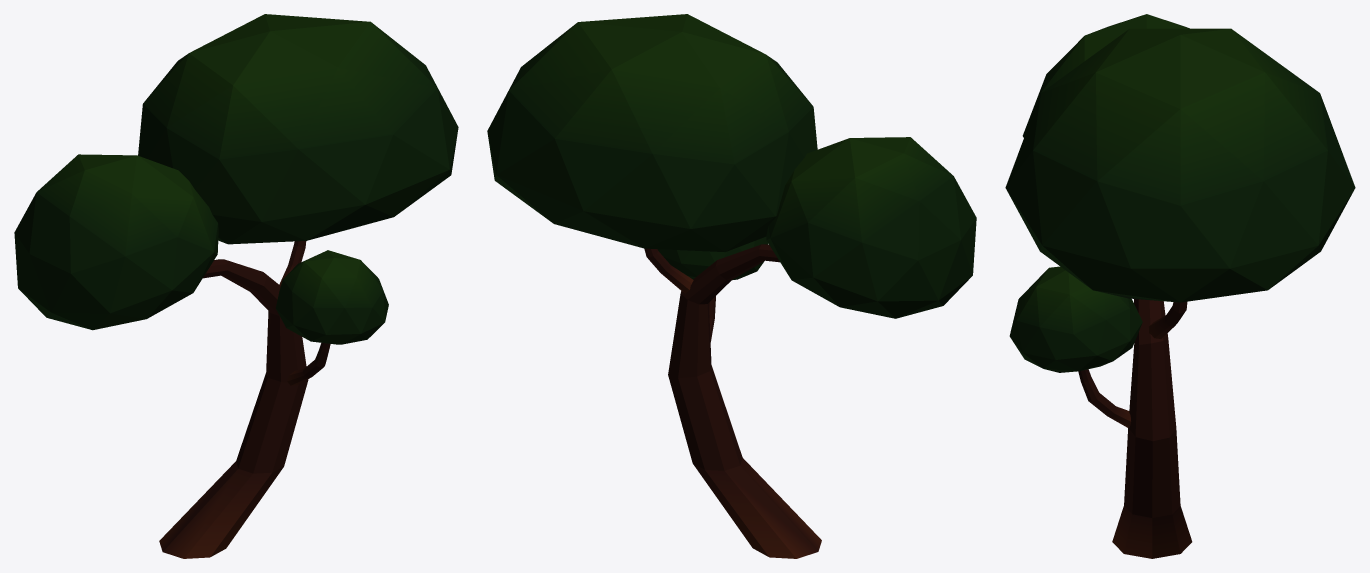
Rendered from Twisted Maple 3.fbx.
3 views of the same model, side by side, from view 1: azimuth 30°, elevation 25°; view 2: azimuth 150°, elevation 25°; view 3: azimuth 270°, elevation 25° (orthographic). The views are drawn at different scales.
Visible parts, largest first — view 1: Maple Tree 3; view 2: Maple Tree 3; view 3: Maple Tree 3.
Part boxes in pixels (x1,y1,x2,y2): Maple Tree 3: (14, 14, 458, 558); Maple Tree 3: (487, 14, 976, 558); Maple Tree 3: (1005, 14, 1355, 558).
Size of the model in its own units: 391 by 427 by 243.
